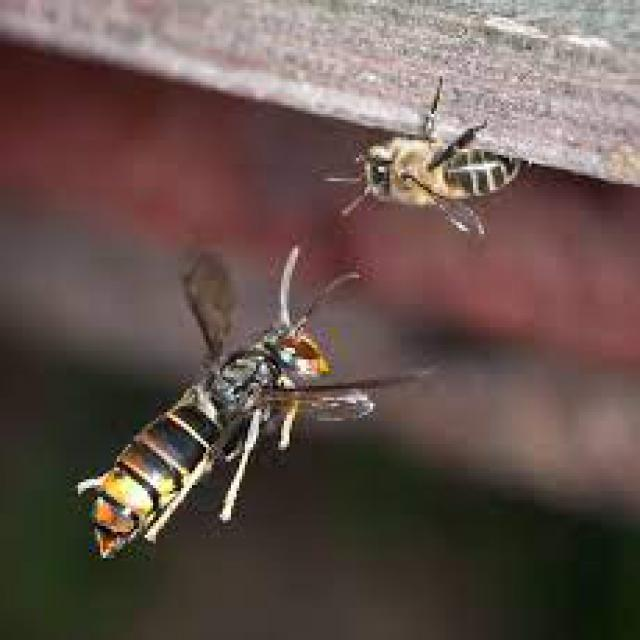Vespa Velutina: (65, 237, 444, 561)
